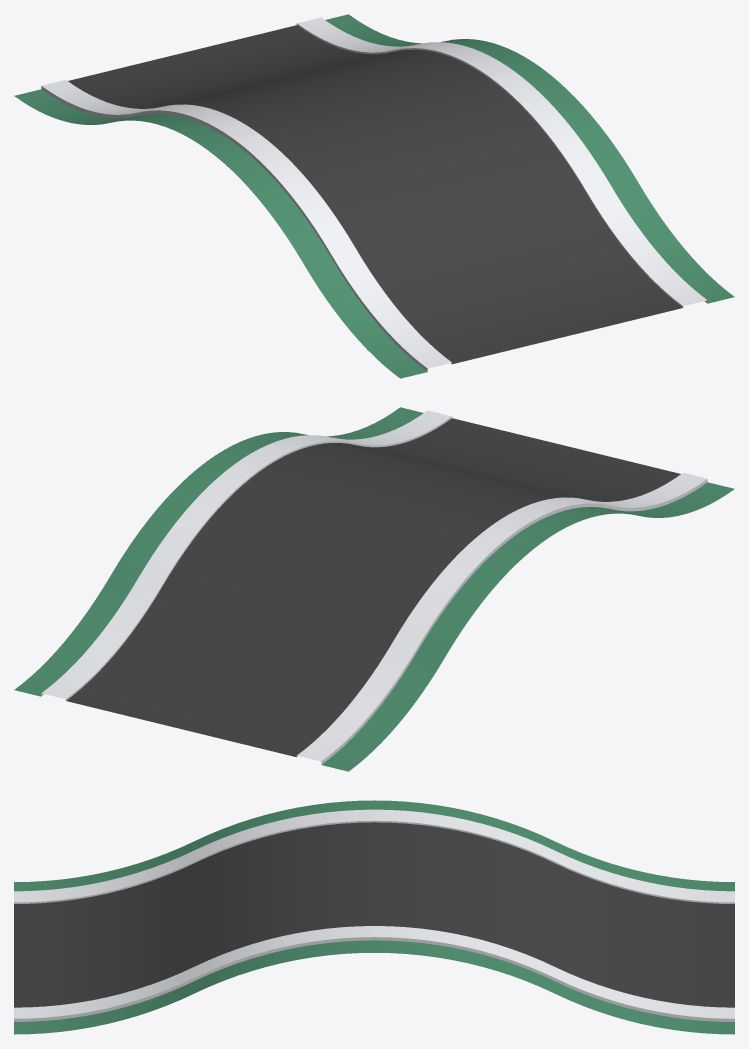
The model's file is roadStraightLongBump_exclusive.fbx.
The picture shows the model from 3 angles, top to bottom: view 1: azimuth 30°, elevation 25°; view 2: azimuth 150°, elevation 25°; view 3: azimuth 270°, elevation 25°; orthographic projection. The views are drawn at different scales.
Visible parts, largest first — view 1: roadStraightLongBump_exclusive; view 2: roadStraightLongBump_exclusive; view 3: roadStraightLongBump_exclusive.
Part boxes in pixels (left/top/right/bottom): roadStraightLongBump_exclusive: left=14, top=14, right=734, bottom=378; roadStraightLongBump_exclusive: left=14, top=407, right=734, bottom=771; roadStraightLongBump_exclusive: left=14, top=800, right=734, bottom=1034.
Bounding box in the file's own units: 10 × 2.6 × 20.
